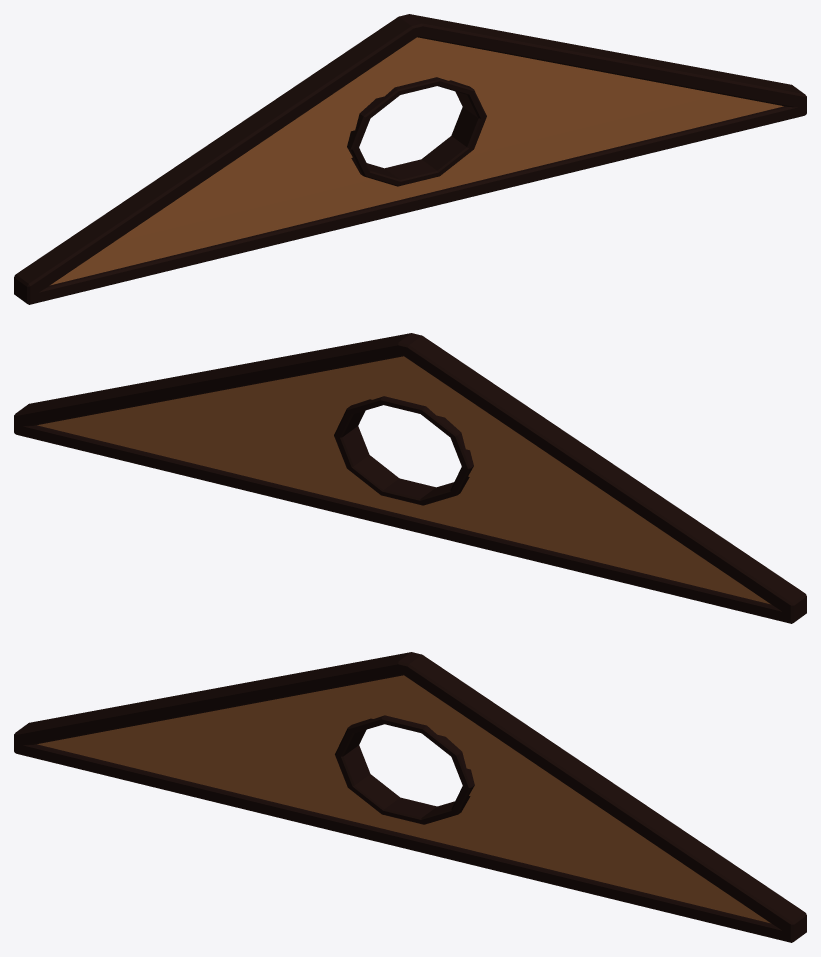
File: ww_sign_d.glb
3 renders of one model, top to bottom at view 1: azimuth 30°, elevation 25°; view 2: azimuth 150°, elevation 25°; view 3: azimuth 330°, elevation 25°, orthographic.
Visible parts, largest first — view 1: Sign_D; view 2: Sign_D; view 3: Sign_D.
Part boxes in pixels (x1=…): Sign_D: x1=14, y1=14, x2=806, y2=304; Sign_D: x1=14, y1=333, x2=806, y2=623; Sign_D: x1=14, y1=652, x2=806, y2=942.
Size of the model in its own units: 10.56 by 2.4 by 0.4099.
